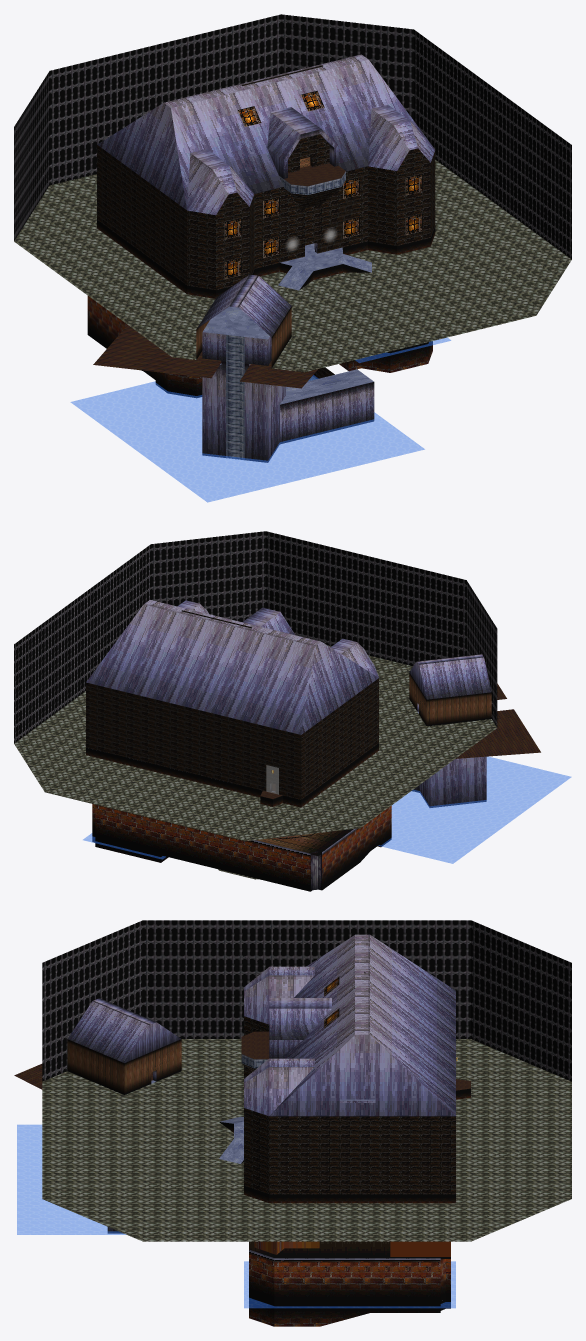
Rendered from teresa_house_all.obj.
The picture shows the model from 3 angles, top to bottom: view 1: azimuth 30°, elevation 25°; view 2: azimuth 150°, elevation 25°; view 3: azimuth 270°, elevation 25°; orthographic projection. The views are drawn at different scales.
Visible parts, largest first — view 1: r0, r2; view 2: r0, r2; view 3: r0, r2.
Part boxes in pixels (x1,y1,x2,y2): r0: (14, 14, 571, 372); r2: (70, 296, 450, 502); r0: (14, 531, 497, 841); r2: (83, 683, 571, 891); r0: (42, 920, 571, 1241); r2: (14, 1064, 455, 1326).
Bounding box in the file's own units: 11.04 × 6.13 × 11.06.
